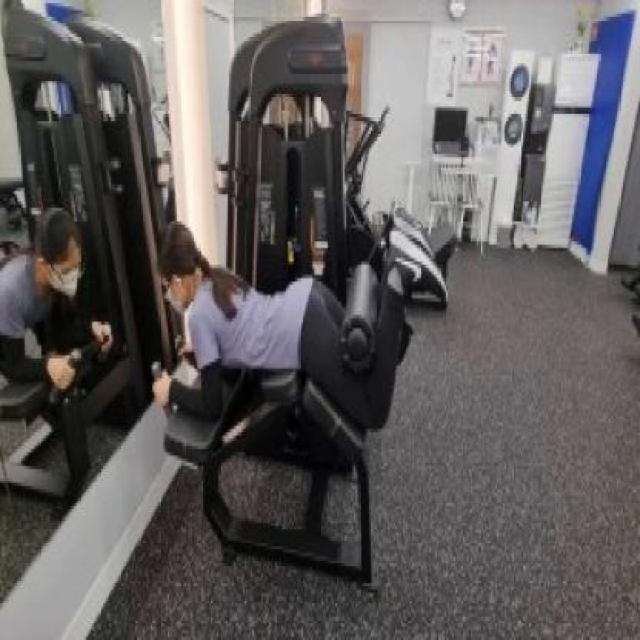reg curl machine: (146, 15, 454, 603)
